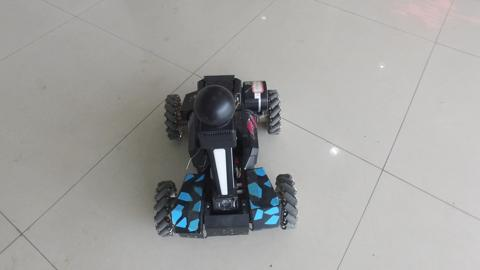chariot: (135, 70, 296, 223)
